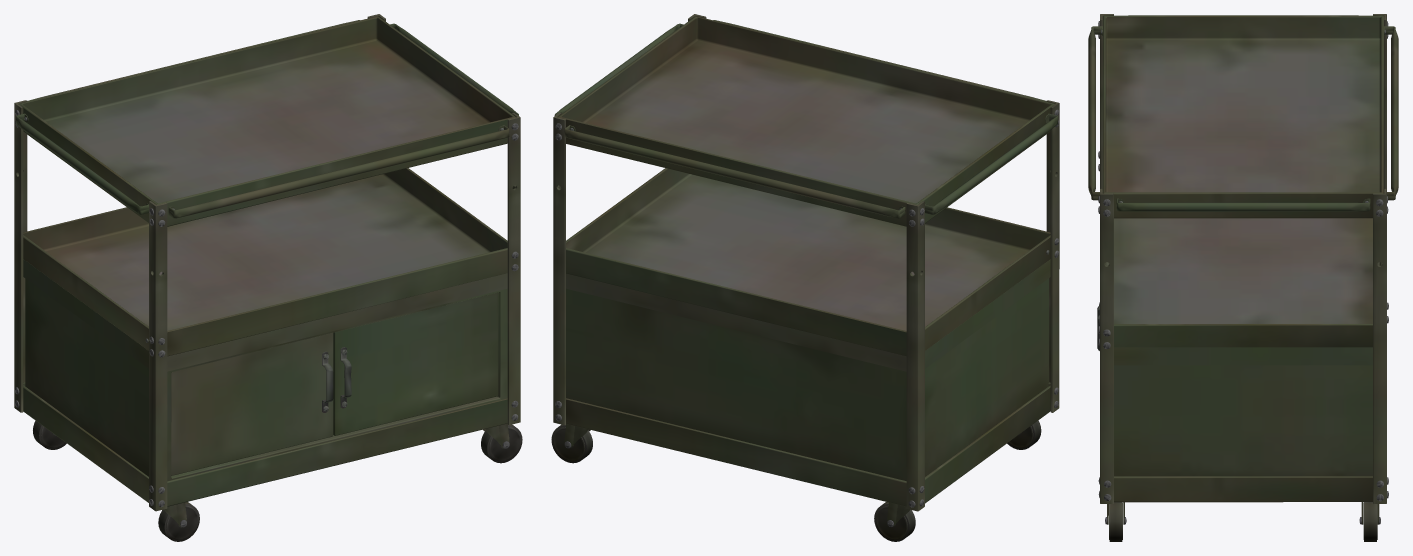
Rendered from carrello-set.glb.
The picture shows the model from 3 angles, left to right: view 1: azimuth 30°, elevation 25°; view 2: azimuth 150°, elevation 25°; view 3: azimuth 270°, elevation 25°; orthographic projection.
Parts seen in each view (by area): view 1: industrial_storage_cart; view 2: industrial_storage_cart; view 3: industrial_storage_cart.
Boxes of the visible parts, x1,y1,x2,y2 form: industrial_storage_cart: (14,14,522,541); industrial_storage_cart: (551,14,1059,541); industrial_storage_cart: (1088,14,1398,541).
Size of the model in its own units: 1.6 by 1.38 by 1.1.
Materials: 1 (1 with a texture image).
